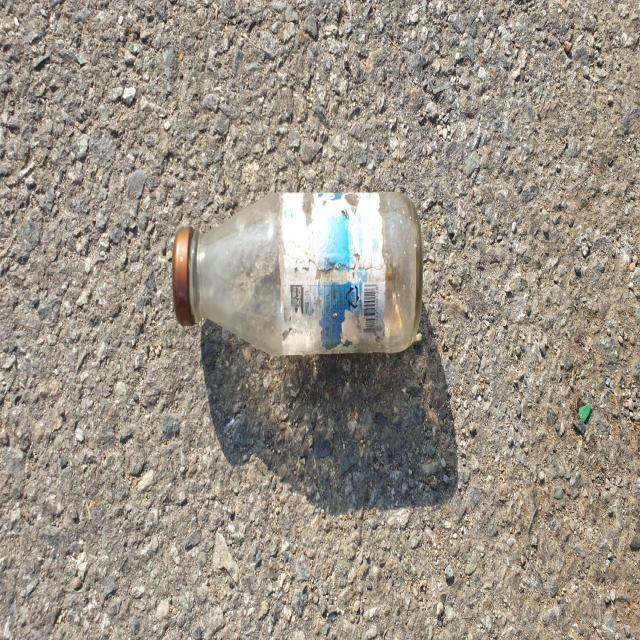glass: (172, 191, 423, 355)
